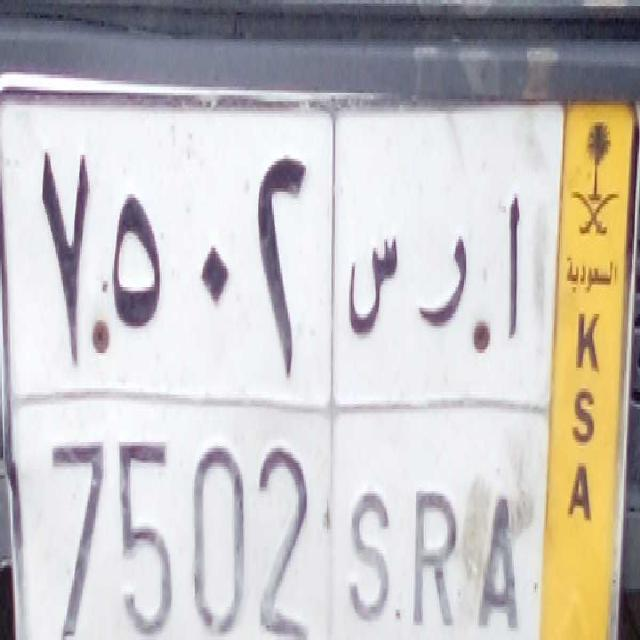license_plate: (4, 394, 545, 640)
